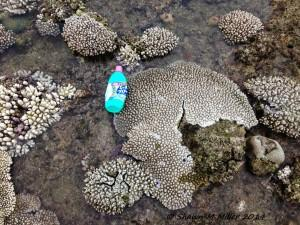bleached_corals: (52, 30, 268, 225), (0, 71, 76, 158), (54, 6, 123, 69), (245, 77, 300, 138), (215, 2, 266, 50), (197, 132, 245, 176), (133, 22, 182, 60), (0, 150, 16, 224), (112, 42, 144, 75)
